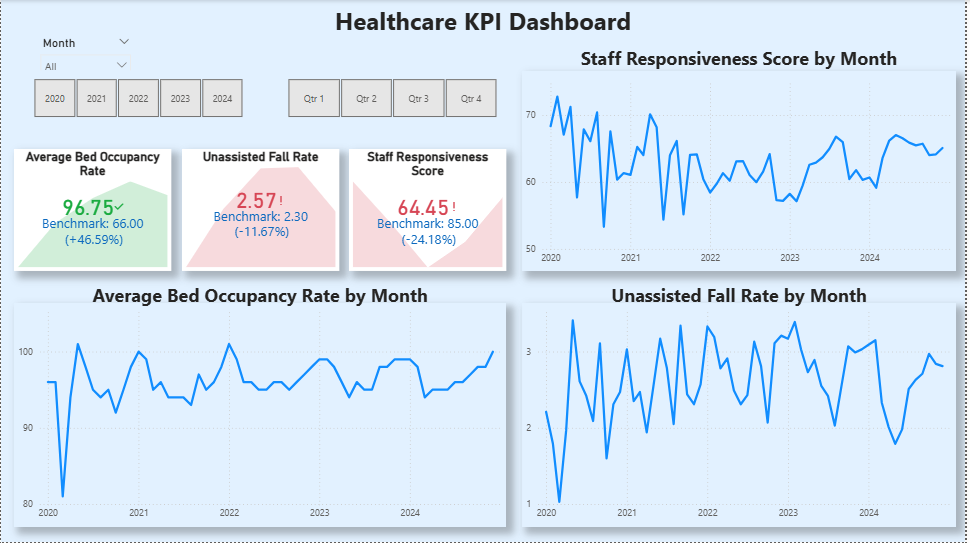

Layout of this report page (visuals, bound fields, positions):
{"tool":"powerbi","page":{"name":"Page 1","canvas":[1280,720],"ordinal":0},"visuals":[{"type":"kpi","title":"Average Bed Occupancy Rate","fields":{"Indicator":["Avg(data.KPI1)"],"TrendLine":["Date.Year"],"Goal":["Avg(data.Benchmark_KPI1)"]},"box":[17.6,197.6,209.3,162.4],"z":0},{"type":"kpi","title":"Unassisted Fall Rate","fields":{"TrendLine":["Date.Year"],"Indicator":["Avg(data.KPI2)"],"Goal":["Avg(data.Benchmark_KPI2)"]},"box":[240,197.6,209.3,162.4],"z":1000},{"type":"kpi","title":"Staff Responsiveness Score","fields":{"TrendLine":["Date.Year"],"Indicator":["Avg(data.KPI3)"],"Goal":["Avg(data.Benchmark_KPI3)"]},"box":[462.4,197.6,209.3,162.4],"z":2000},{"type":"lineChart","fields":{"Category":["Date.Month"],"Y":["Sum(data.KPI1)"]},"box":[17.6,402.4,654.1,297.1],"z":3000},{"type":"lineChart","fields":{"Category":["Date.Month"],"Y":["Sum(data.KPI2)"]},"box":[692.2,402.4,576.6,297.1],"z":4000},{"type":"lineChart","fields":{"Category":["Date.Month"],"Y":["Sum(data.KPI3)"]},"box":[692.2,93.7,576.6,266.3],"z":5000},{"type":"slicer","fields":{"Values":["data.Month.Variation.Date Hierarchy.Quarter"]},"box":[355.6,98,326.3,64.4],"z":6000},{"type":"slicer","fields":{"Values":["Date.Year"]},"box":[19,98,326.3,64.4],"z":7000},{"type":"slicer","fields":{"Values":["Date.Month Name"]},"box":[42.4,42.4,140.5,51.2],"z":8000},{"type":"textbox","box":[0,0,1280.5,68.8],"z":9000},{"type":"textbox","box":[17.6,370.2,654.1,42.4],"z":10000},{"type":"textbox","box":[692.2,370.2,576.6,42.4],"z":11000},{"type":"textbox","box":[692.2,55.6,576.6,54.1],"z":12000}]}

Visuals, with their boxes in screenshot pixels (x1, y1, x2, y2), scaled from the page's 1280x720 canvas onto the 970x543 screenshot:
"Average Bed Occupancy Rate" kpi: bbox=(13, 149, 172, 272)
"Unassisted Fall Rate" kpi: bbox=(182, 149, 340, 272)
"Staff Responsiveness Score" kpi: bbox=(350, 149, 509, 272)
lineChart - Date.Month x Sum(data.KPI1): bbox=(13, 303, 509, 528)
lineChart - Date.Month x Sum(data.KPI2): bbox=(525, 303, 962, 528)
lineChart - Date.Month x Sum(data.KPI3): bbox=(525, 71, 962, 272)
slicer - data.Month.Variation.Date Hierarchy.Quarter: bbox=(269, 74, 517, 122)
slicer - Date.Year: bbox=(14, 74, 262, 122)
slicer - Date.Month Name: bbox=(32, 32, 139, 71)
textbox: bbox=(0, 0, 969, 52)
textbox: bbox=(13, 279, 509, 311)
textbox: bbox=(525, 279, 962, 311)
textbox: bbox=(525, 42, 962, 83)
